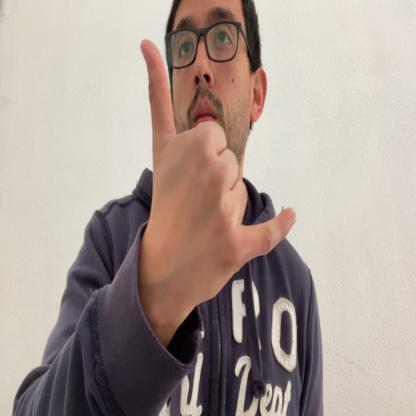Y: (140, 39, 296, 297)
